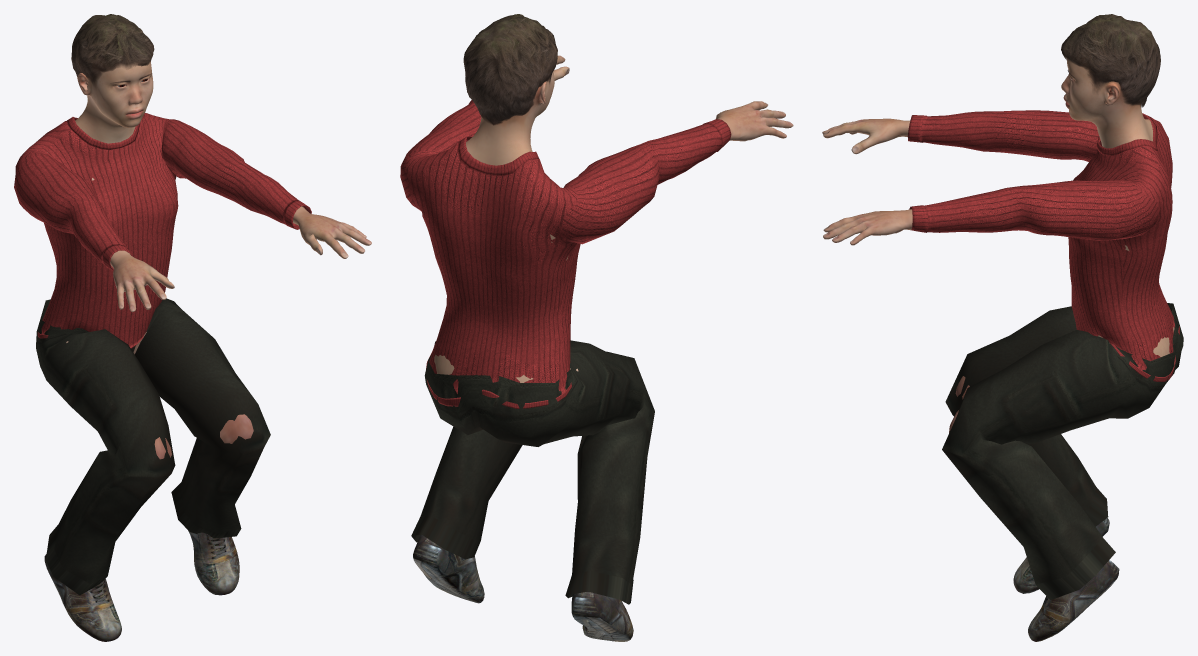
File: fictional_student_mpfb_casual_ik.glb
3 views of the same model, side by side, from view 1: azimuth 30°, elevation 25°; view 2: azimuth 150°, elevation 25°; view 3: azimuth 270°, elevation 25° (orthographic). The views are drawn at different scales.
Visible parts, largest first — view 1: Fictional student - editable base.cortu_cargo_pants - pose b, Fictional student - editable base.toigo_fisherman_sweater - , Fictional student - editable base - pose baked, Fictional student - editable base.shoes02 - pose baked, Fictional student - editable base.short02 - pose baked; view 2: Fictional student - editable base.toigo_fisherman_sweater - , Fictional student - editable base.cortu_cargo_pants - pose b, Fictional student - editable base.short02 - pose baked, Fictional student - editable base - pose baked, Fictional student - editable base.shoes02 - pose baked; view 3: Fictional student - editable base.cortu_cargo_pants - pose b, Fictional student - editable base.toigo_fisherman_sweater - , Fictional student - editable base - pose baked, Fictional student - editable base.short02 - pose baked, Fictional student - editable base.shoes02 - pose baked.
Part boxes in pixels (bbox=[...]): Fictional student - editable base.cortu_cargo_pants - pose b: bbox=[36, 298, 270, 595]; Fictional student - editable base.toigo_fisherman_sweater - : bbox=[14, 113, 311, 348]; Fictional student - editable base - pose baked: bbox=[47, 61, 371, 459]; Fictional student - editable base.shoes02 - pose baked: bbox=[44, 530, 239, 641]; Fictional student - editable base.short02 - pose baked: bbox=[71, 14, 154, 87]; Fictional student - editable base.toigo_fisherman_sweater - : bbox=[400, 100, 731, 408]; Fictional student - editable base.cortu_cargo_pants - pose b: bbox=[411, 340, 654, 604]; Fictional student - editable base.short02 - pose baked: bbox=[463, 14, 557, 125]; Fictional student - editable base - pose baked: bbox=[434, 55, 793, 382]; Fictional student - editable base.shoes02 - pose baked: bbox=[413, 535, 633, 641]; Fictional student - editable base.cortu_cargo_pants - pose b: bbox=[942, 303, 1183, 599]; Fictional student - editable base.toigo_fisherman_sweater - : bbox=[907, 110, 1179, 381]; Fictional student - editable base - pose baked: bbox=[822, 58, 1174, 432]; Fictional student - editable base.short02 - pose baked: bbox=[1061, 14, 1160, 107]; Fictional student - editable base.shoes02 - pose baked: bbox=[1013, 518, 1119, 641].
Size of the model in its own units: 0.6232 by 1.39 by 0.7671.
Materials: 7 (7 with a texture image).
